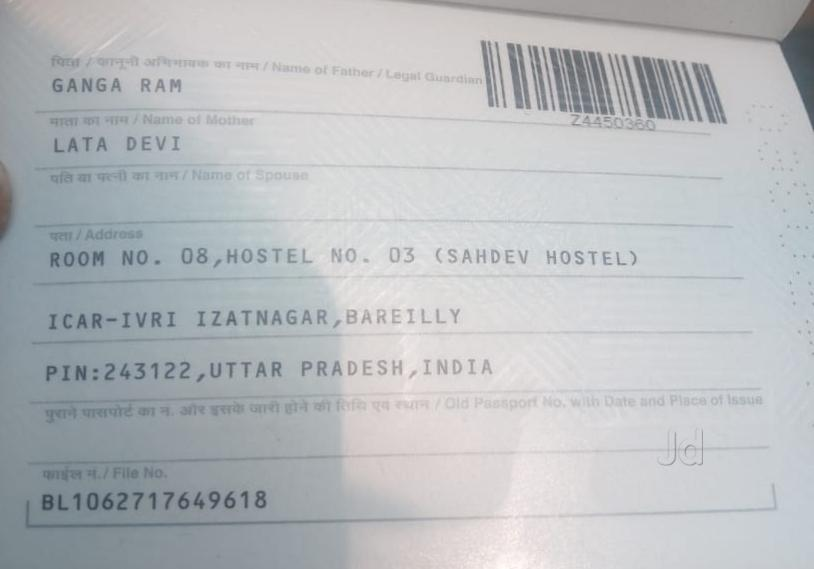File_no: (26, 484, 273, 523)
address: (38, 239, 657, 391)
father_name: (34, 68, 198, 104)
mother_name: (32, 130, 199, 163)
passport_no: (566, 108, 679, 140)
